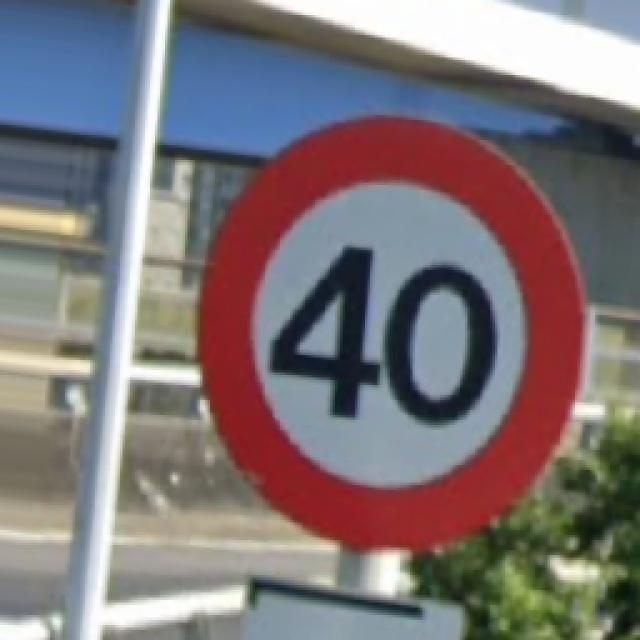Speed Limit -40-: (202, 115, 582, 548)
